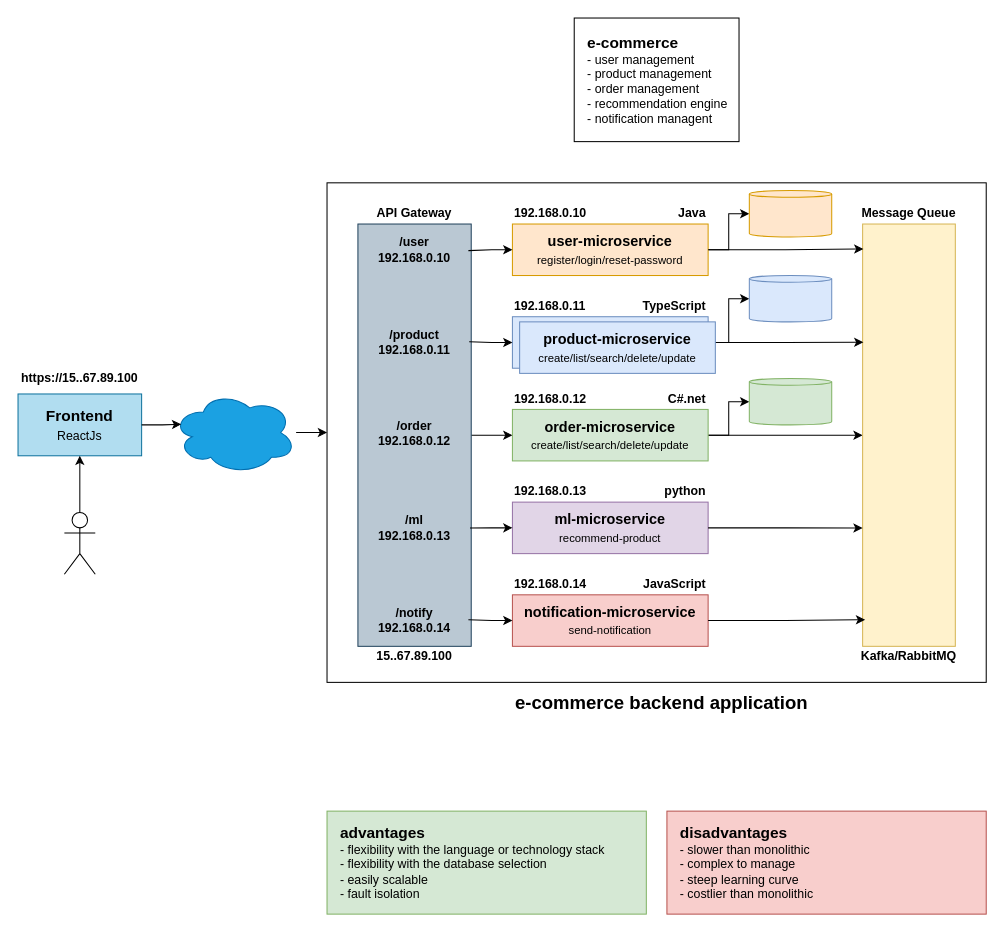
Some shapes in this 1004 by 932 pixel diagram are drawn without their labels. Here are the shapes that lost their labels. From the top down, the centre of each, then its label:
pixel 790 213: MySQL
pixel 790 298: MongoDB
pixel 790 401: PostgreSQL
pixel 79 542: User
